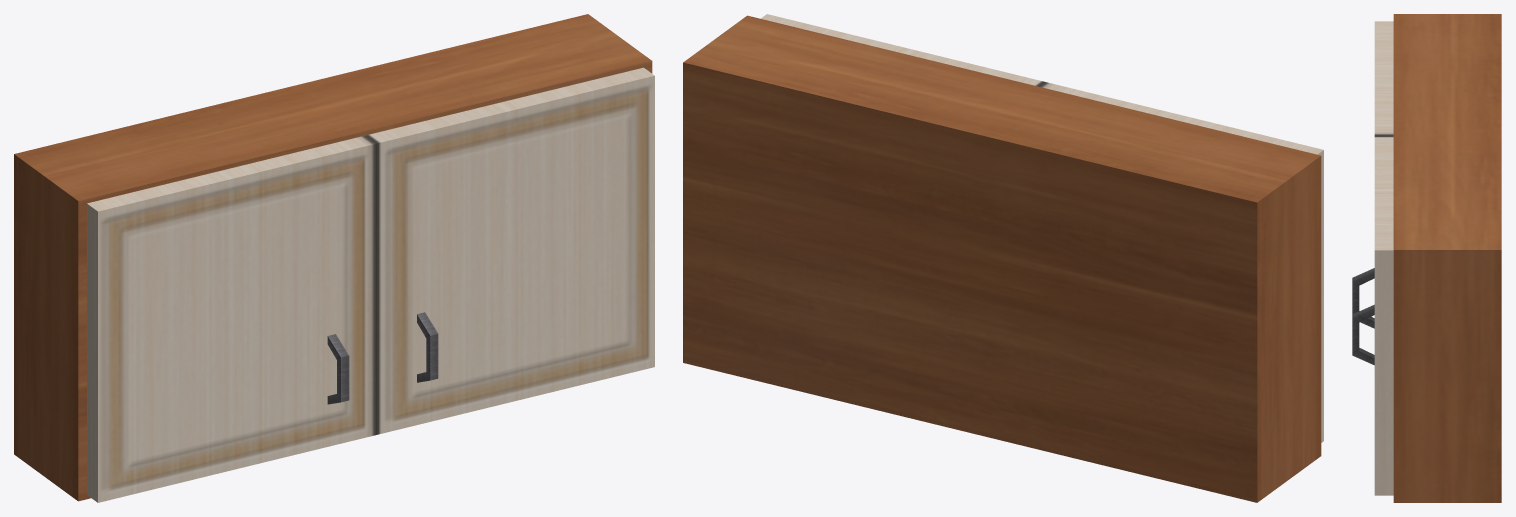
Rendered from Cupboard_1_1.fbx.
3 renders of one model, left to right at view 1: azimuth 30°, elevation 25°; view 2: azimuth 150°, elevation 25°; view 3: azimuth 270°, elevation 25°, orthographic. The views are drawn at different scales.
Visible parts, largest first — view 1: polySurface1492; view 2: polySurface1492; view 3: polySurface1492.
Part boxes in pixels (left/top/right/bottom): polySurface1492: left=14, top=14, right=654, bottom=502; polySurface1492: left=683, top=14, right=1323, bottom=502; polySurface1492: left=1352, top=14, right=1501, bottom=502.
Size of the model in its own units: 1.8 by 0.9 by 0.4813.
